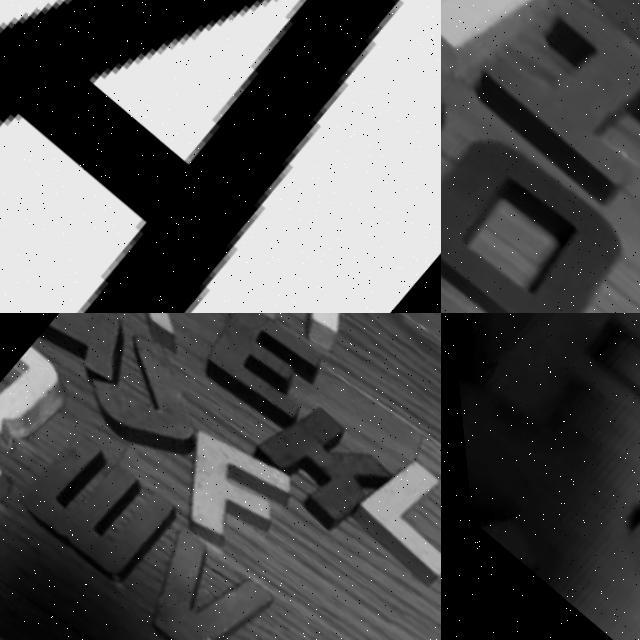A: (0, 0, 441, 313)
E: (186, 313, 333, 444)
F: (149, 419, 301, 571)
H: (441, 0, 568, 114), (227, 313, 367, 361)
I: (457, 0, 640, 241)
J: (66, 323, 221, 479)
K: (239, 391, 398, 552)
L: (338, 453, 441, 603)
O: (441, 123, 631, 313)
P: (465, 313, 640, 512)
V: (116, 520, 274, 640)
W: (0, 413, 186, 610)
X: (80, 313, 231, 366)
